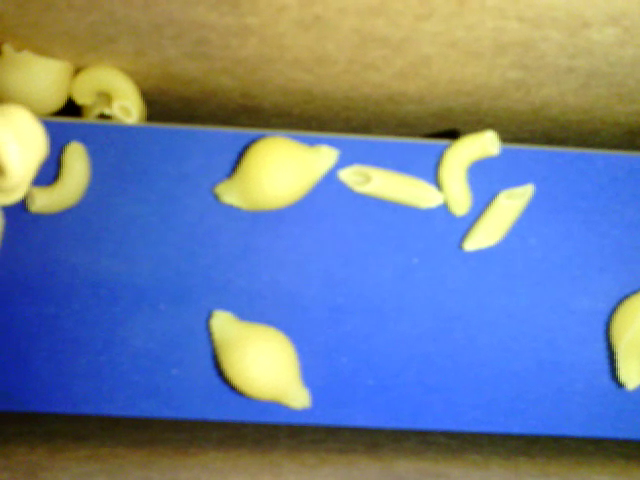elbow: (436, 130, 500, 219), (26, 140, 89, 215), (70, 63, 142, 122)
penne: (461, 183, 534, 250), (338, 163, 445, 207)
shell: (209, 309, 311, 409), (213, 134, 339, 210), (1, 43, 73, 115), (609, 291, 639, 390), (82, 92, 147, 123)
tortellini: (1, 102, 50, 205)
